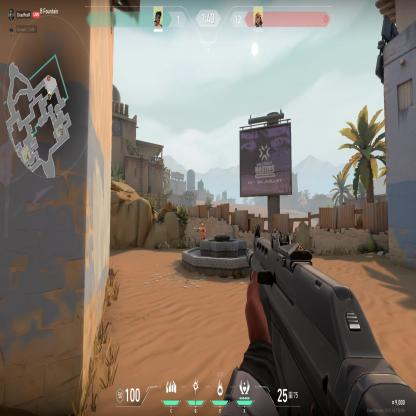enemy: (197, 222, 206, 239)
